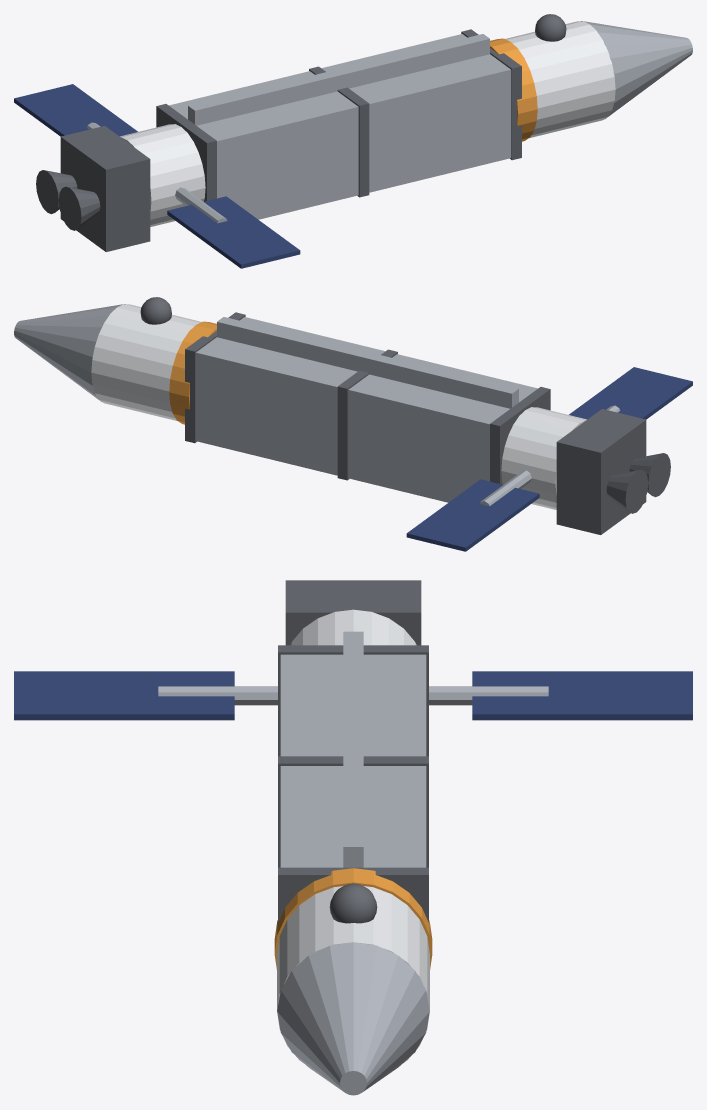
File: sakura.glb
3 views of the same model, one above another, from view 1: azimuth 30°, elevation 25°; view 2: azimuth 150°, elevation 25°; view 3: azimuth 270°, elevation 25° (orthographic). The views are drawn at different scales.
Visible parts, largest first — view 1: sakura_cargo_1, sakura_cargo_2, sakura_engine, sakura_fwd_hull, sakura_spine_top, sakura_solar_1, sakura_aft_hull, sakura_nose, sakura_solar_0, sakura_cargo_rib_2, sakura_collar, sakura_cargo_rib_1 (+5 smaller); view 2: sakura_cargo_1, sakura_cargo_2, sakura_engine, sakura_fwd_hull, sakura_spine_top, sakura_solar_0, sakura_aft_hull, sakura_nose, sakura_solar_1, sakura_cargo_rib_2, sakura_collar, sakura_cargo_rib_1 (+5 smaller); view 3: sakura_nose, sakura_cargo_2, sakura_cargo_1, sakura_solar_0, sakura_solar_1, sakura_fwd_hull, sakura_engine, sakura_spine_top, sakura_aft_hull, sakura_cargo_rib_0, sakura_collar, sakura_cargo_rib_1 (+4 smaller).
Part boxes in pixels (box(x1,y1,x2,y2)): sakura_cargo_1: box(321, 34, 511, 192); sakura_cargo_2: box(169, 71, 358, 219); sakura_engine: box(60, 126, 150, 251); sakura_fwd_hull: box(505, 21, 615, 138); sakura_spine_top: box(188, 34, 489, 125); sakura_solar_1: box(167, 196, 300, 268); sakura_aft_hull: box(120, 124, 205, 226); sakura_nose: box(581, 21, 692, 118); sakura_solar_0: box(14, 84, 137, 136); sakura_cargo_rib_2: box(156, 104, 216, 201); sakura_collar: box(490, 38, 537, 141); sakura_cargo_rib_1: box(309, 66, 369, 197); sakura_cargo_1: box(195, 317, 385, 475); sakura_cargo_2: box(348, 354, 537, 502); sakura_engine: box(556, 409, 646, 534); sakura_fwd_hull: box(91, 304, 201, 421); sakura_spine_top: box(217, 317, 518, 408); sakura_solar_0: box(406, 479, 539, 551); sakura_aft_hull: box(501, 407, 586, 509); sakura_nose: box(14, 304, 125, 401); sakura_solar_1: box(569, 367, 692, 419); sakura_cargo_rib_2: box(490, 387, 550, 484); sakura_collar: box(169, 321, 216, 424); sakura_cargo_rib_1: box(337, 349, 397, 480); sakura_nose: box(277, 942, 429, 1095); sakura_cargo_2: box(280, 654, 426, 756); sakura_cargo_1: box(280, 766, 426, 867); sakura_solar_0: box(472, 671, 692, 720); sakura_solar_1: box(14, 671, 234, 720); sakura_fwd_hull: box(277, 886, 429, 1063); sakura_engine: box(285, 580, 421, 645); sakura_spine_top: box(343, 631, 363, 867); sakura_aft_hull: box(290, 609, 416, 645); sakura_cargo_rib_0: box(278, 867, 428, 922); sakura_collar: box(274, 868, 432, 969); sakura_cargo_rib_1: box(278, 756, 428, 867).
Size of the model in its own units: 64 by 10.95 by 40.
